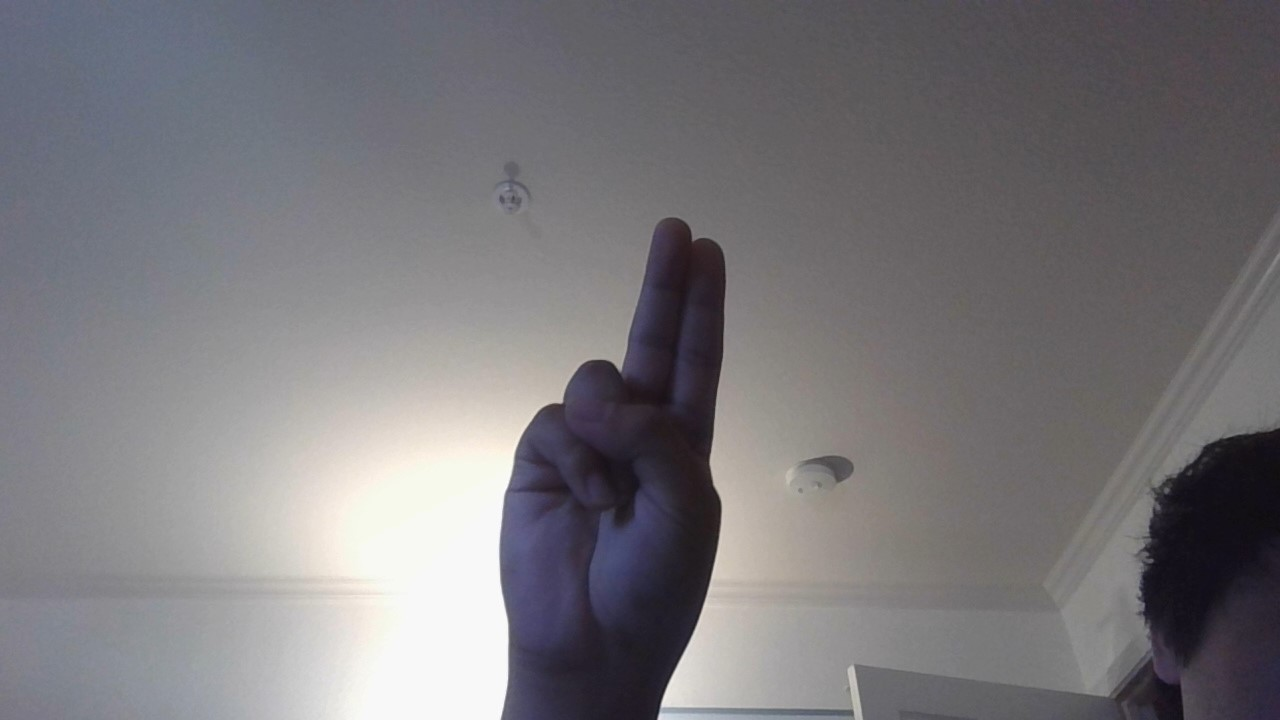u: (454, 197, 805, 693)
